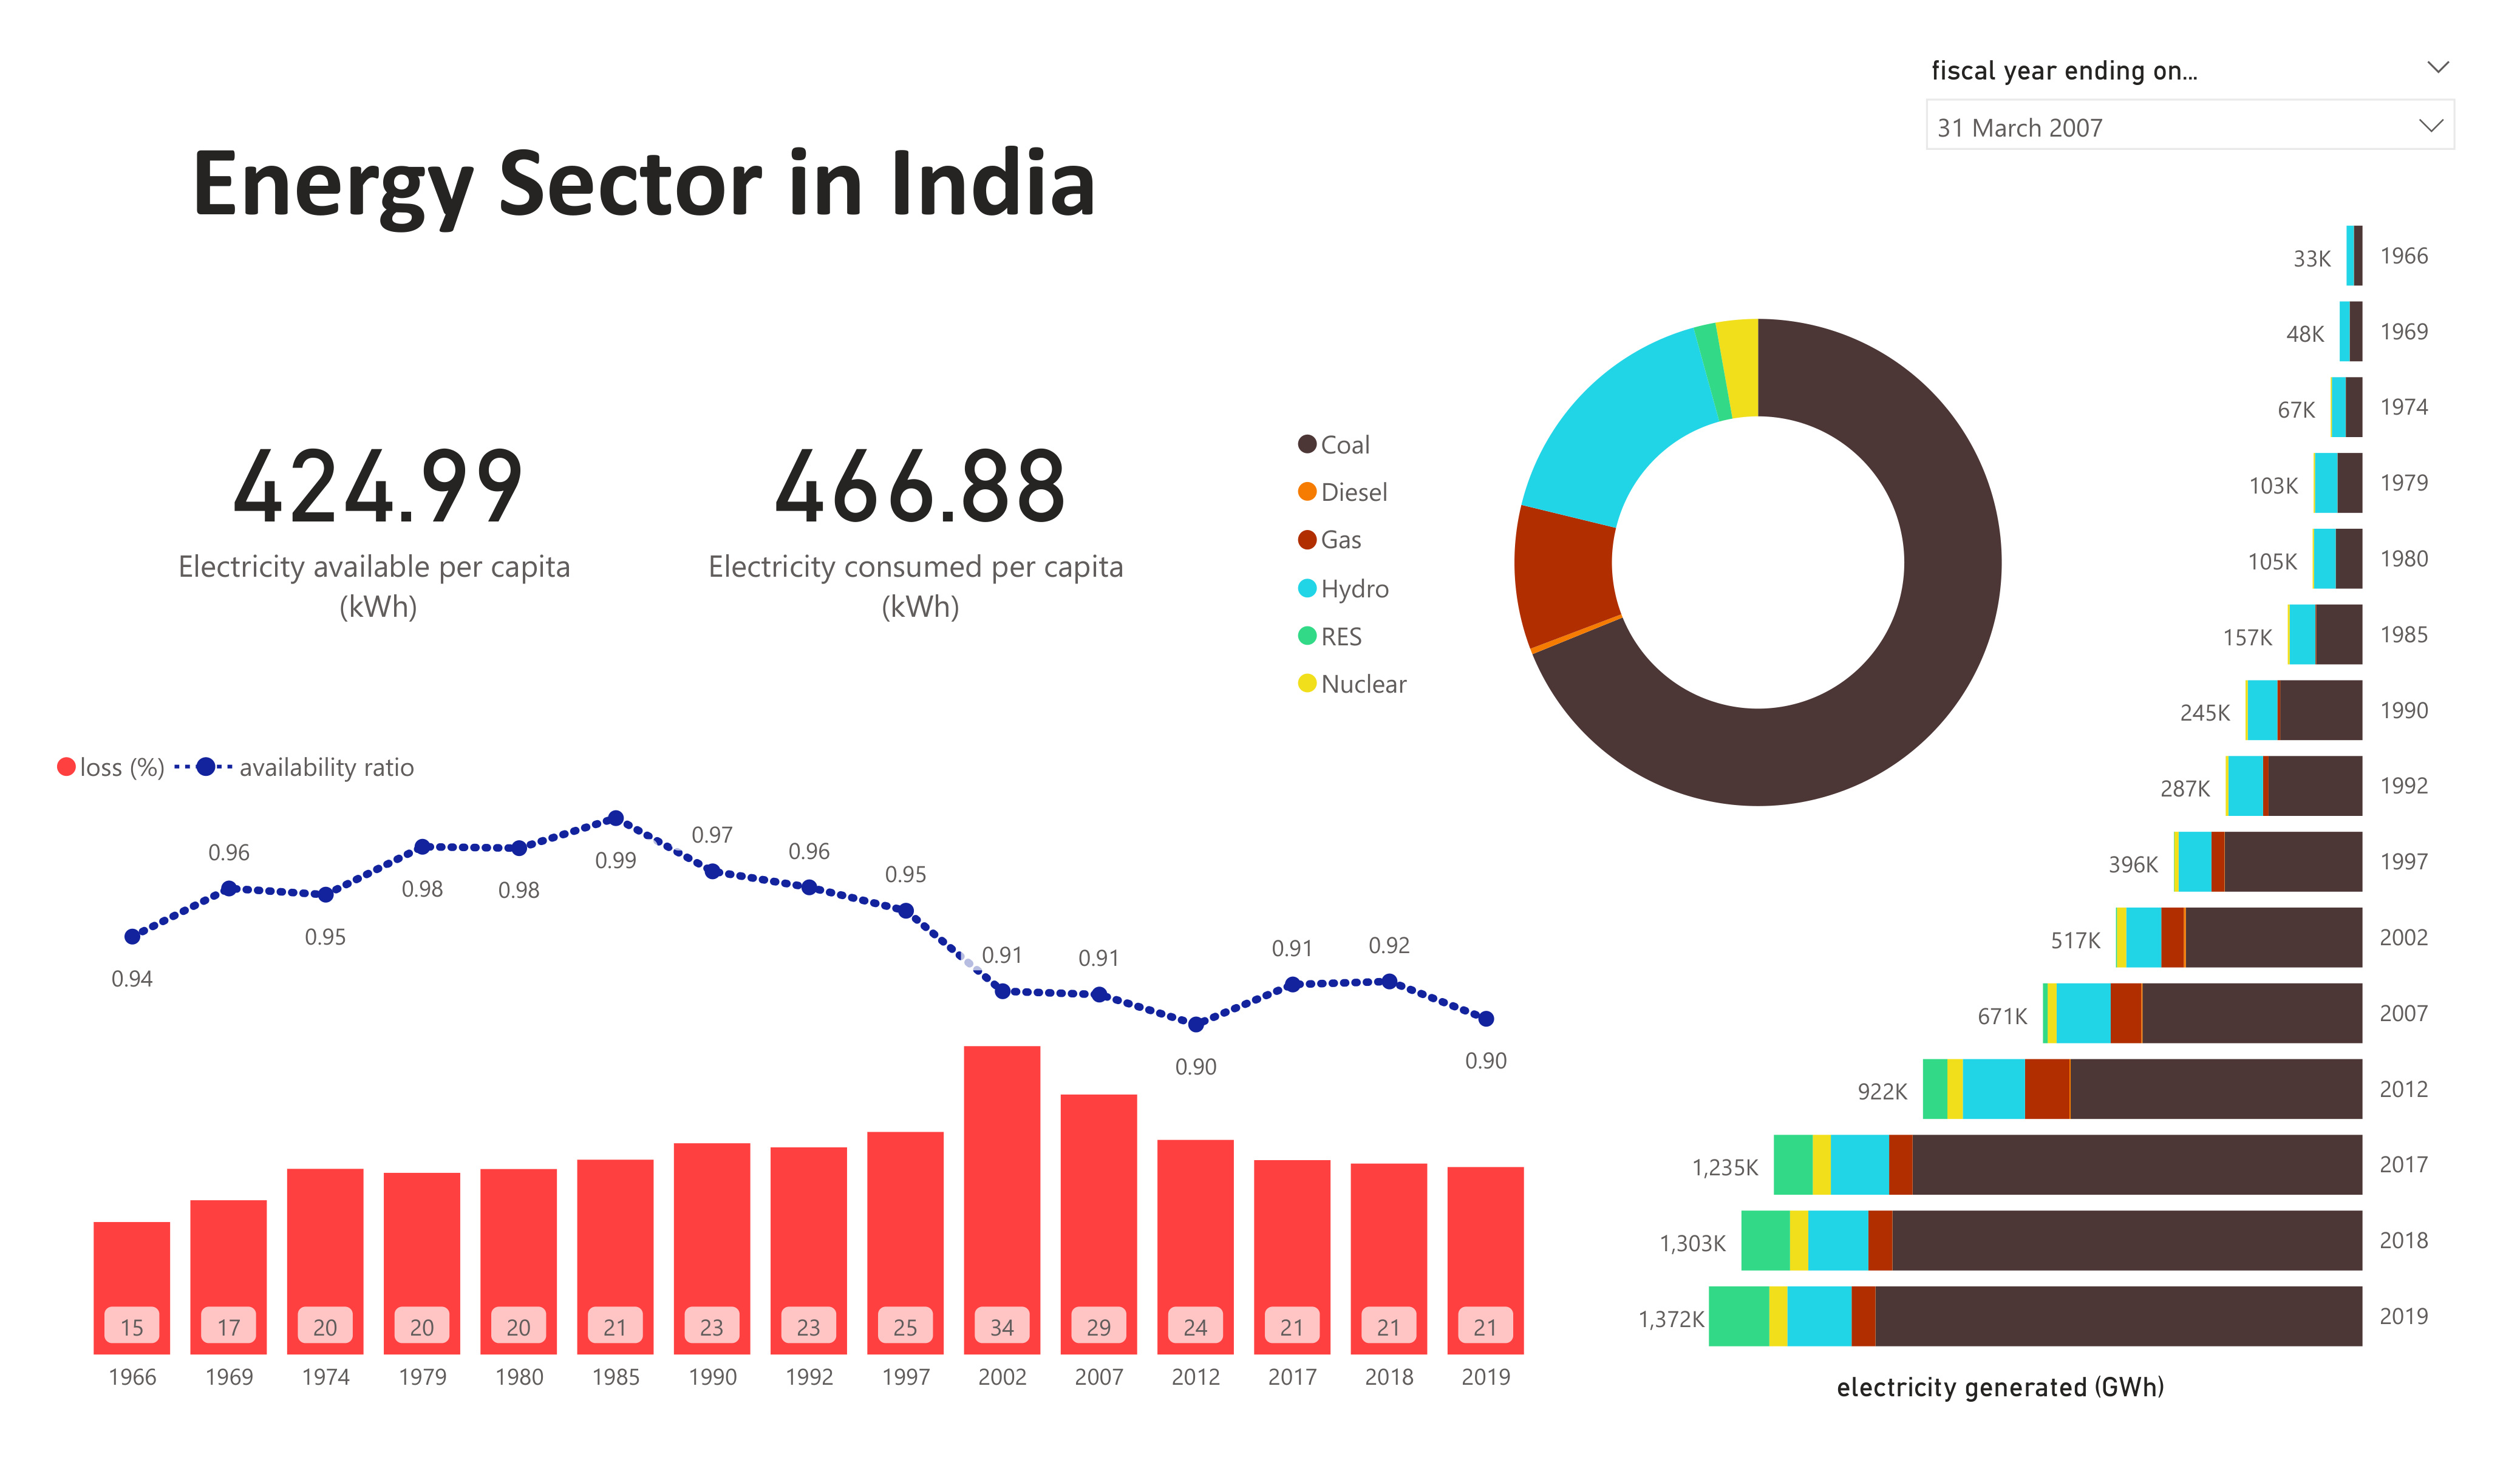

Layout of this report page (visuals, bound fields, positions):
{"tool":"powerbi","page":{"name":"Page 1","canvas":[1280,720],"ordinal":0},"visuals":[{"type":"barChart","fields":{"Category":["per-capita-consumption-(kWh).year.Variation.Date Hierarchy.Year","per-capita-consumption-(kWh).year.Variation.Date Hierarchy.Quarter","per-capita-consumption-(kWh).year.Variation.Date Hierarchy.Month","per-capita-consumption-(kWh).year.Variation.Date Hierarchy.Day"],"Y":["Sum(actual-generation-(GWh).Coal)","Sum(actual-generation-(GWh).Diesel)","Sum(actual-generation-(GWh).Gas)","Sum(actual-generation-(GWh).Hydro)","Sum(actual-generation-(GWh).Nuclear)","Sum(actual-generation-(GWh).RES)"]},"box":[833.8,66.2,430.6,653.8],"z":0},{"type":"lineClusteredColumnComboChart","fields":{"Category":["electricity-consumption-(GWh).year.Variation.Date Hierarchy.Year","electricity-consumption-(GWh).year.Variation.Date Hierarchy.Quarter","electricity-consumption-(GWh).year.Variation.Date Hierarchy.Month","electricity-consumption-(GWh).year.Variation.Date Hierarchy.Day"],"Y":["Sum(loss.T & D Losses (%))"],"Y2":["electricity-available-(GWh).Average of available (GWh) divided by Average of consumption (GWh)"]},"box":[0,360,805,360],"z":500},{"type":"donutChart","title":"Distribution of Energy Sources","fields":{"Y":["Avg(actual-generation-(GWh).Coal)","Avg(actual-generation-(GWh).Diesel)","Avg(actual-generation-(GWh).Gas)","Avg(actual-generation-(GWh).Hydro)","Avg(actual-generation-(GWh).RES)","Avg(actual-generation-(GWh).Nuclear)"]},"box":[653.8,106.6,429.1,331.2],"z":1000},{"type":"slicer","fields":{"Values":["electricity-available-(GWh).year"]},"box":[980.6,0,299.5,66.2],"z":3000},{"type":"card","fields":{"Values":["Max(per-capita-availability-(kWh).available (kWh))"]},"box":[50.4,135.4,250.6,200.2],"z":4000},{"type":"card","fields":{"Values":["Max(per-capita-consumption-(kWh).consumption (kWh))"]},"box":[335.5,135.4,250.6,200.2],"z":5000},{"type":"textbox","box":[70.6,33.1,515.5,102.2],"z":5001}]}

Visuals, with their boxes in screenshot pixels (x1, y1, x2, y2):
barChart - per-capita-consumption-(kWh).year.Variation.Date Hierarchy.Year x per-capita-consumption-(kWh).year.Variation.Date Hierarchy.Quarter: [1628, 171, 2445, 1411]
lineClusteredColumnComboChart - electricity-consumption-(GWh).year.Variation.Date Hierarchy.Year x electricity-consumption-(GWh).year.Variation.Date Hierarchy.Quarter: [46, 728, 1573, 1411]
"Distribution of Energy Sources" donutChart: [1286, 248, 2100, 876]
slicer - electricity-available-(GWh).year: [1906, 46, 2474, 171]
card - Max(per-capita-availability-(kWh).available (kWh)): [141, 302, 617, 682]
card - Max(per-capita-consumption-(kWh).consumption (kWh)): [682, 302, 1158, 682]
textbox: [180, 108, 1158, 302]
